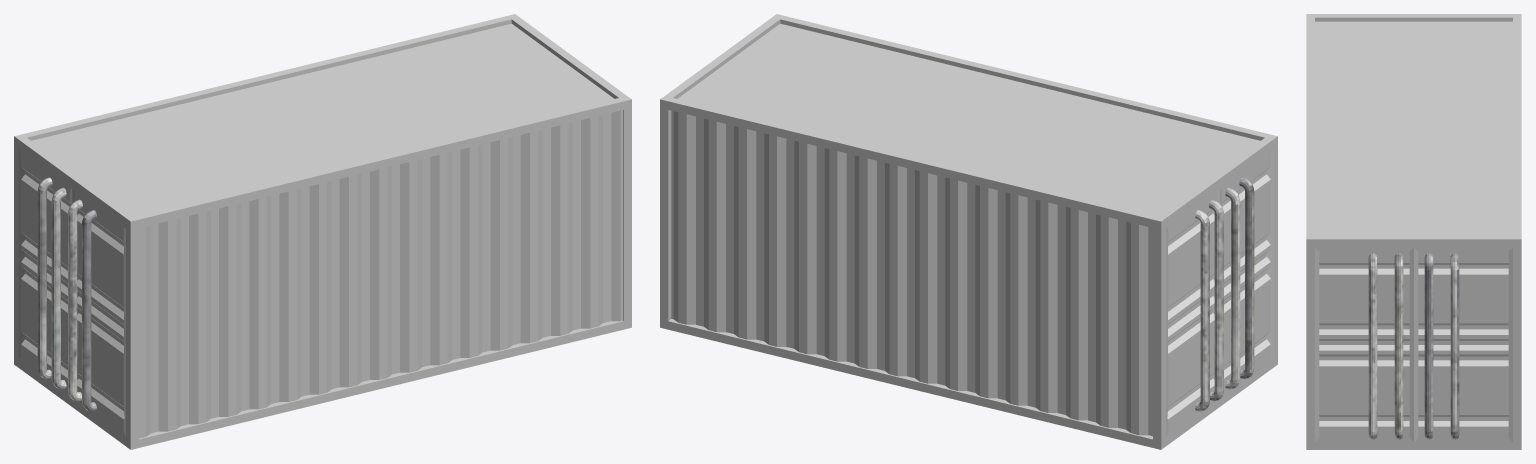
Rendered from kontener2.fbx.
3 views of the same model, side by side, from view 1: azimuth 30°, elevation 25°; view 2: azimuth 150°, elevation 25°; view 3: azimuth 270°, elevation 25° (orthographic). The views are drawn at different scales.
Visible parts, largest first — view 1: ContainerBody, DoorBackLeft, DoorBackRight; view 2: ContainerBody, DoorBackRight, DoorBackLeft; view 3: ContainerBody, DoorFrontLeft, DoorFrontRight.
Boxes of the visible parts, box(x1,y1,x2,y2) form: ContainerBody: box(14, 14, 631, 449); DoorBackLeft: box(68, 187, 125, 437); DoorBackRight: box(18, 148, 72, 396); ContainerBody: box(660, 14, 1277, 449); DoorBackRight: box(1166, 187, 1223, 437); DoorBackLeft: box(1219, 148, 1273, 396); ContainerBody: box(1306, 14, 1521, 449); DoorFrontLeft: box(1414, 247, 1512, 442); DoorFrontRight: box(1315, 247, 1413, 442).
Size of the model in its own units: 650 by 270 by 250.
Materials: 2 (1 with a texture image).
